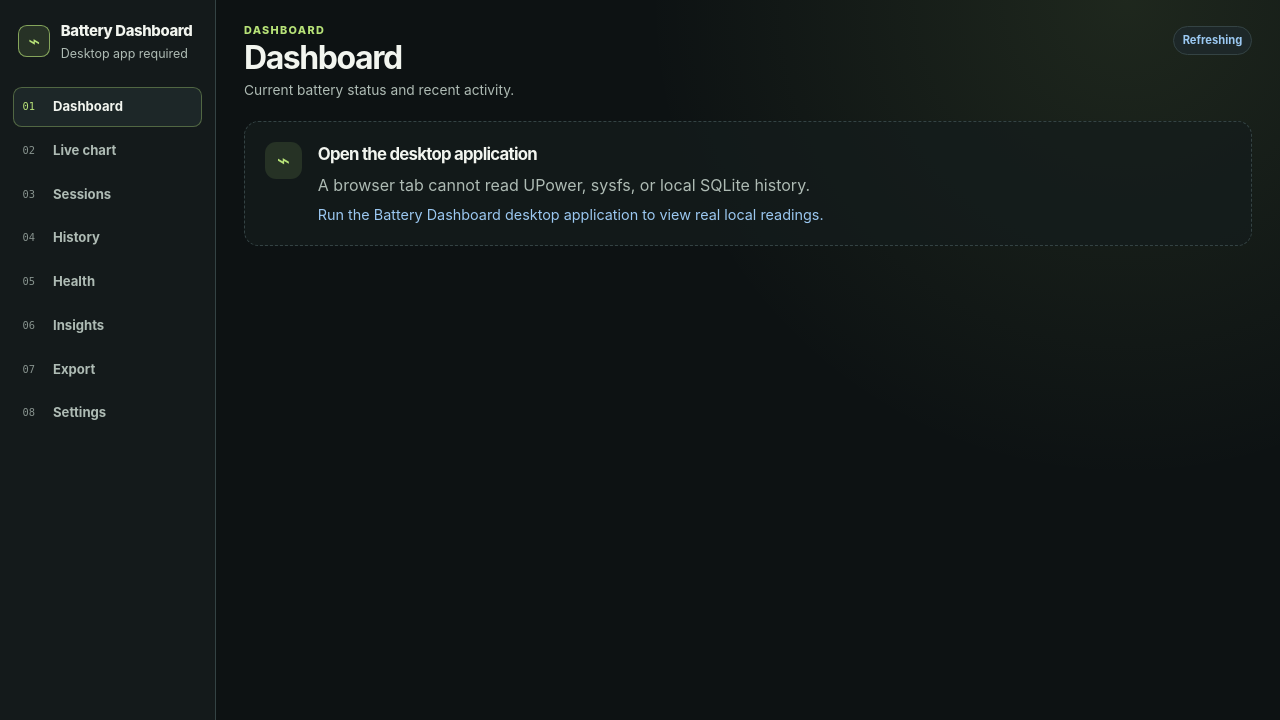
Scenario: App › shows opt-in recorder settings without pretending browser preview supports them
Click the button with aria-label "Settings:" at {"x": 108, "y": 413}, box [13, 393, 202, 433]
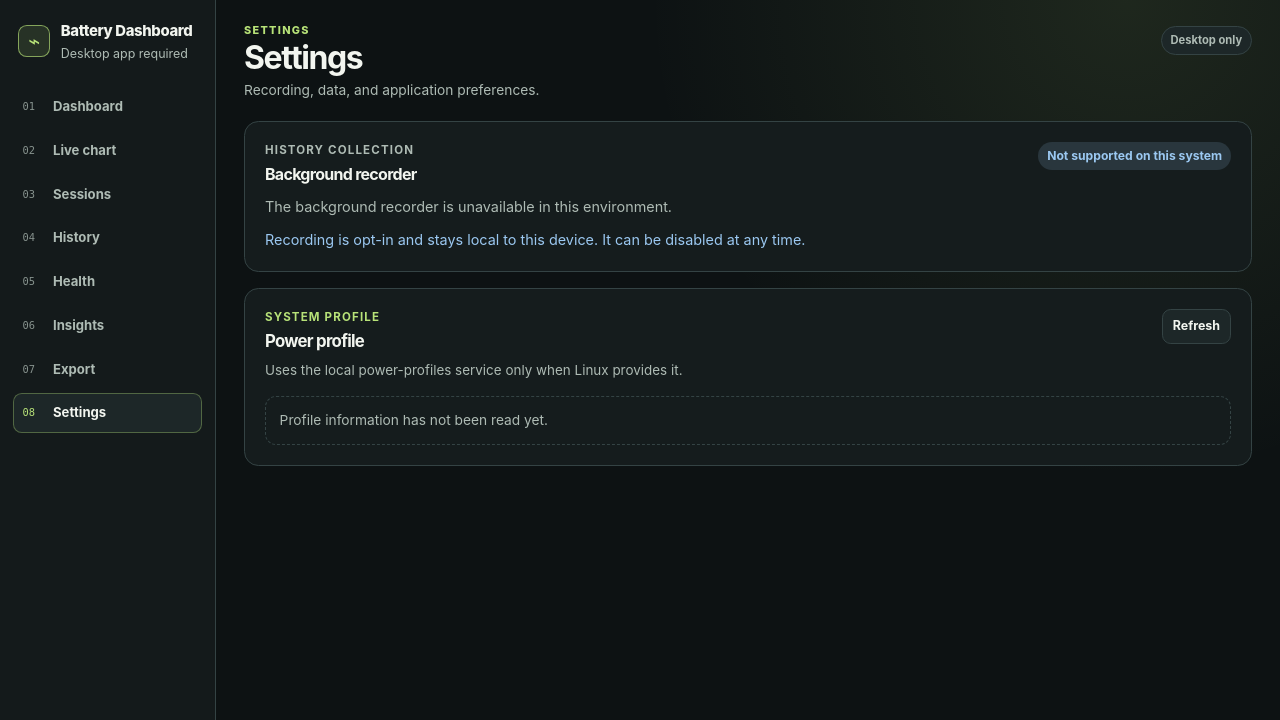
Check: the heading "Background recorder" is shown, box [265, 162, 416, 186]
Check: the text "Not supported on this system" is shown, box [1038, 142, 1231, 170]
